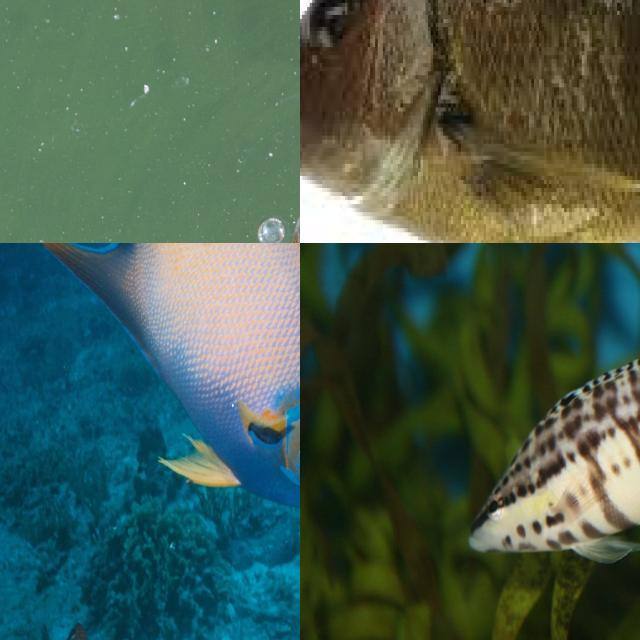fish: (0, 0, 300, 243), (59, 243, 300, 541), (461, 277, 640, 566), (553, 0, 640, 206)
